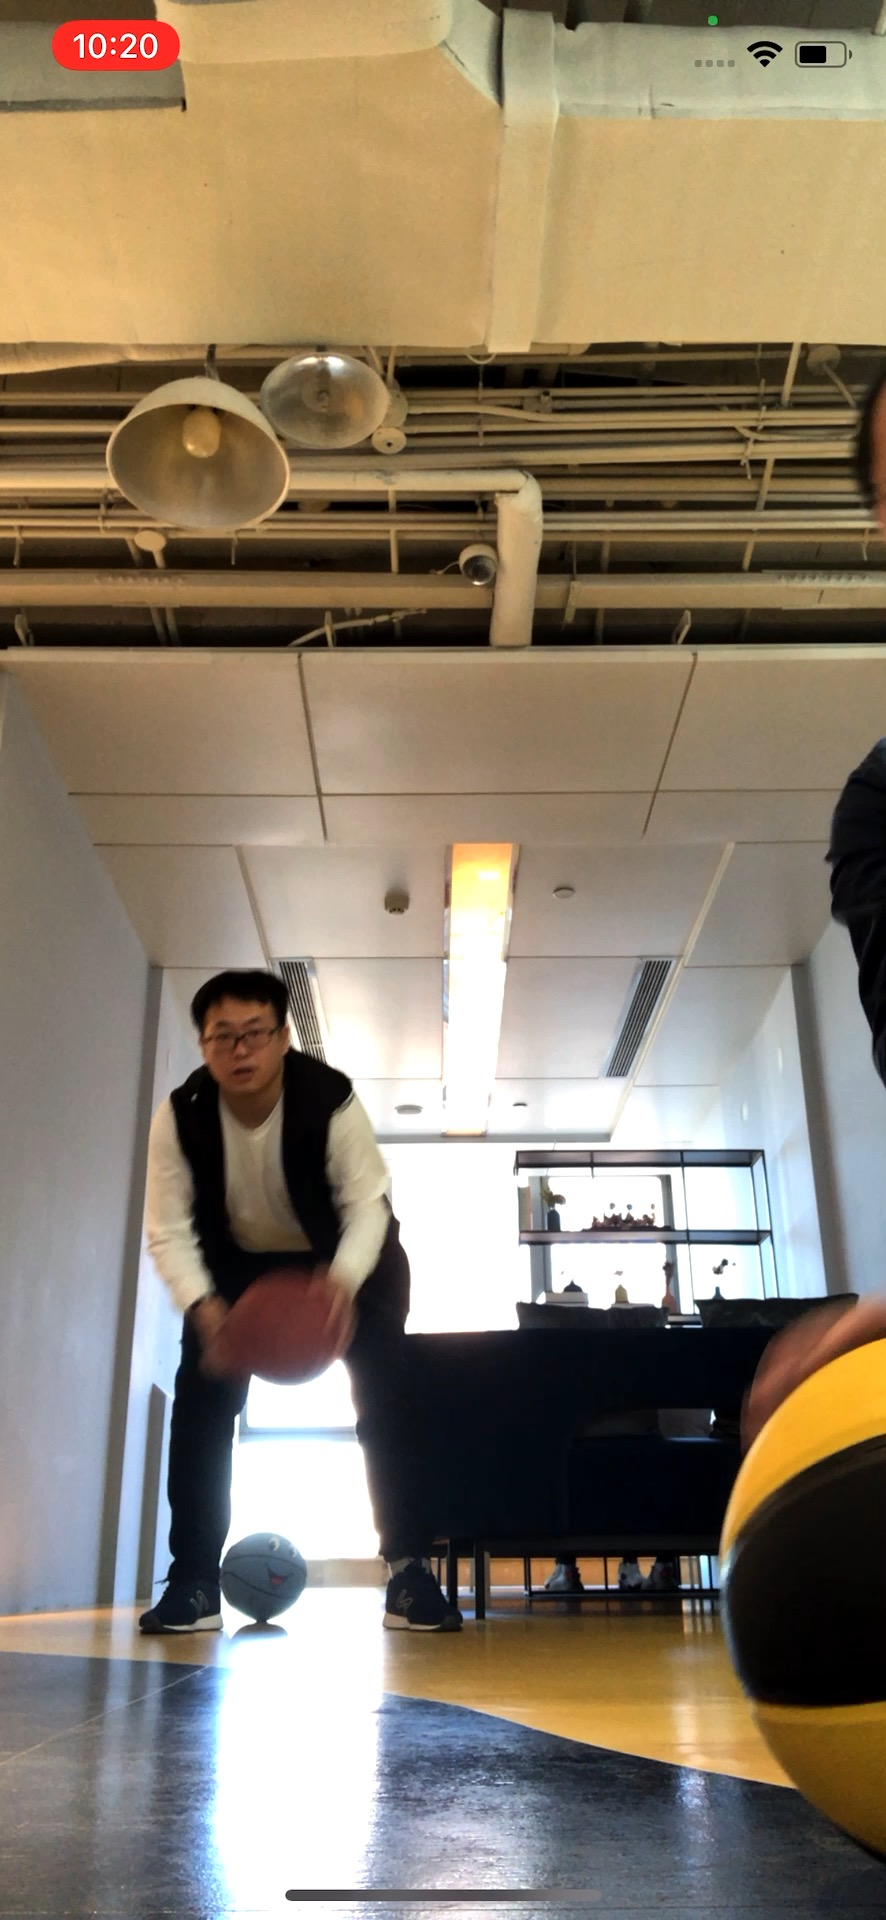ball: (712, 1340, 886, 1853), (223, 1269, 348, 1389), (218, 1536, 306, 1619)
